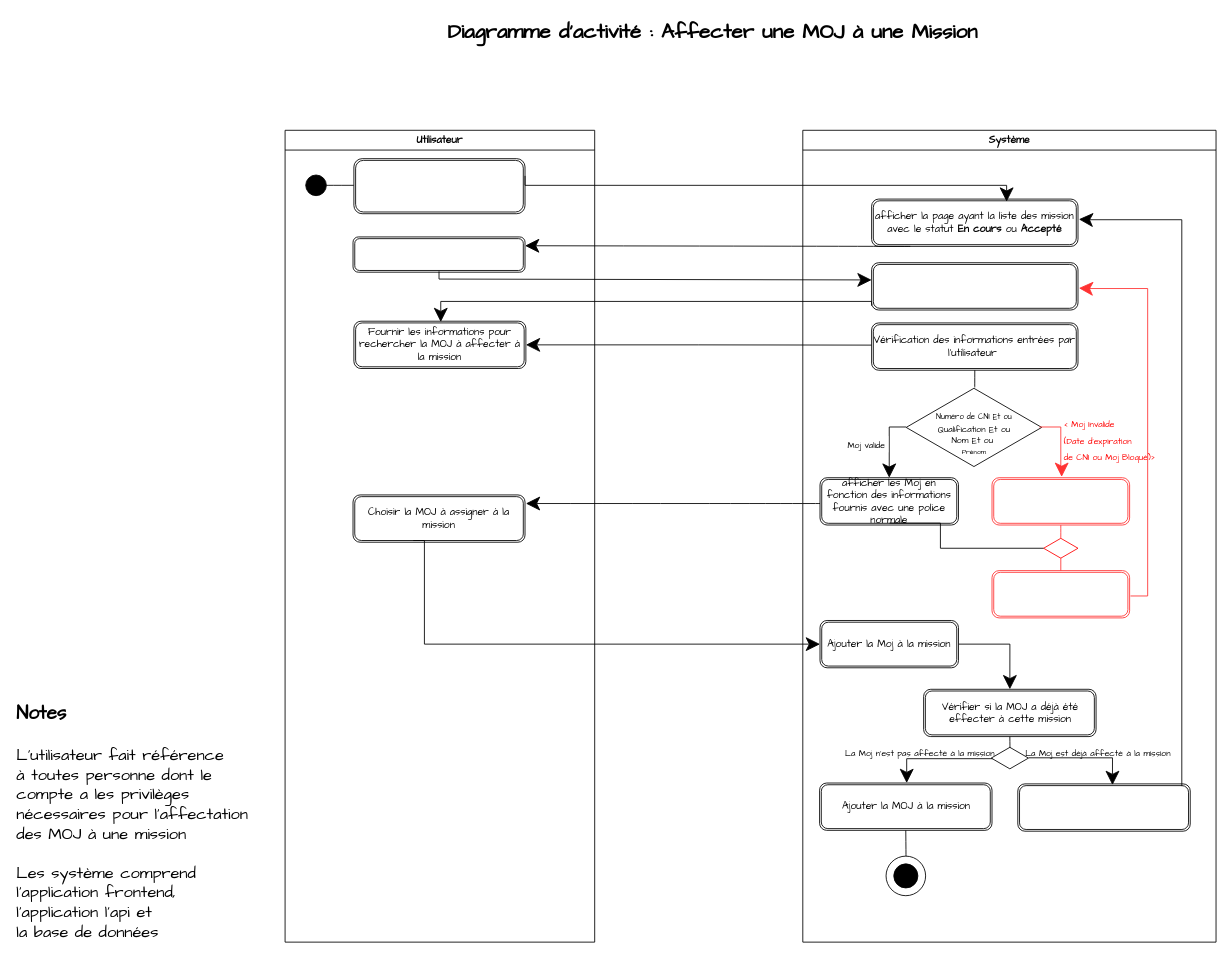
Some shapes in this 1231 by 961 pixel diagram are drawn without their labels. The shapes that lost their labels are listed below. From the top down, each one's centre as x and y in pixels, then its label:
[439,186]: Ouvrir la page d'affectation d'une ou Plusieurs MOJ à une mission
[438,254]: Choisir la mission
[974,286]: afficher la page permettant de rechercher les MOJ à affecter la mission
[1060,501]: afficher les Moj en fonction des informations fournis en rouge
[1060,594]: Aucune Moj Valide
[1103,807]: Envoyer un message disant que la MOJ choisie a déjà été affecté à la mission
